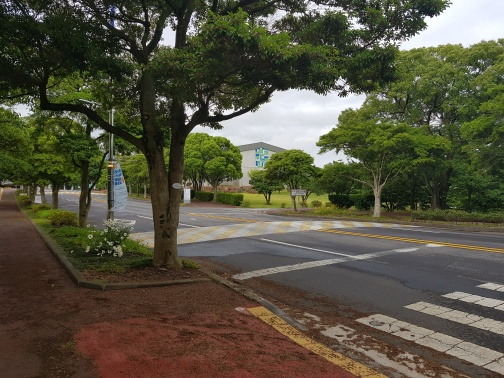Gym: (234, 137, 288, 191), (254, 145, 269, 168)
